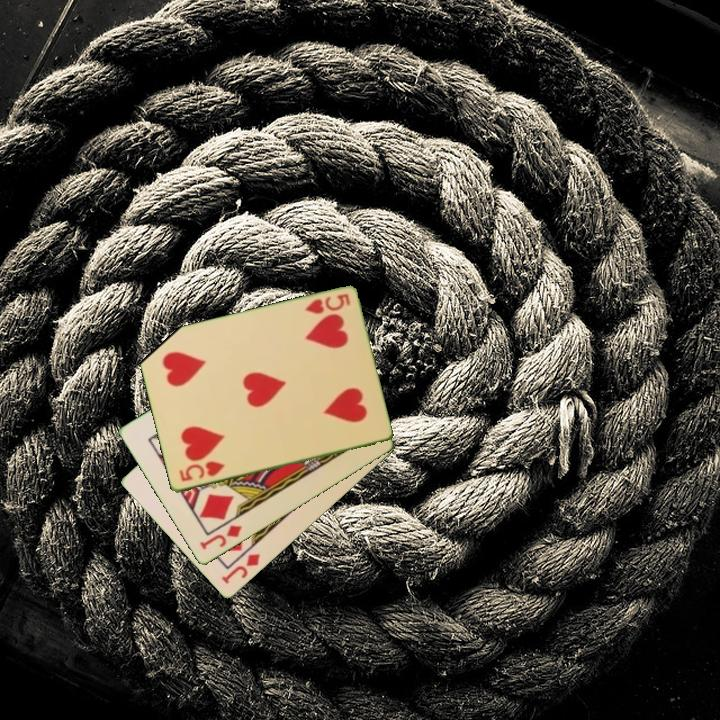5h: (175, 458, 227, 485), (301, 291, 353, 317)
Jd: (218, 550, 263, 587), (196, 522, 245, 553)
